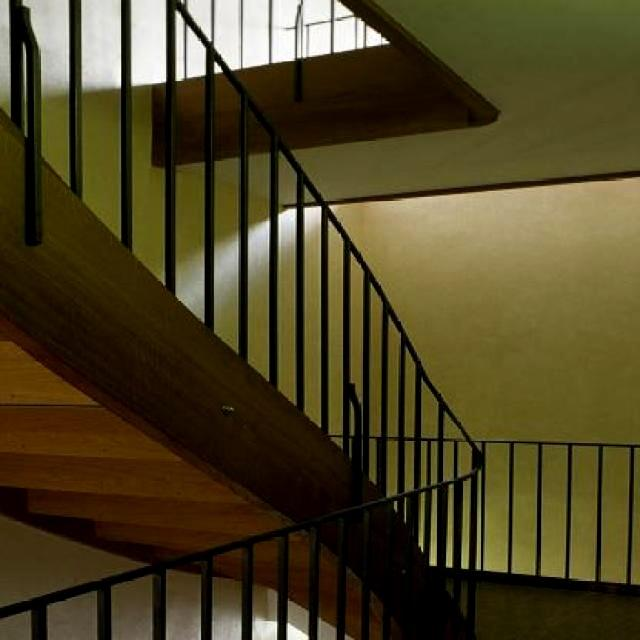stair: (0, 0, 541, 638)
